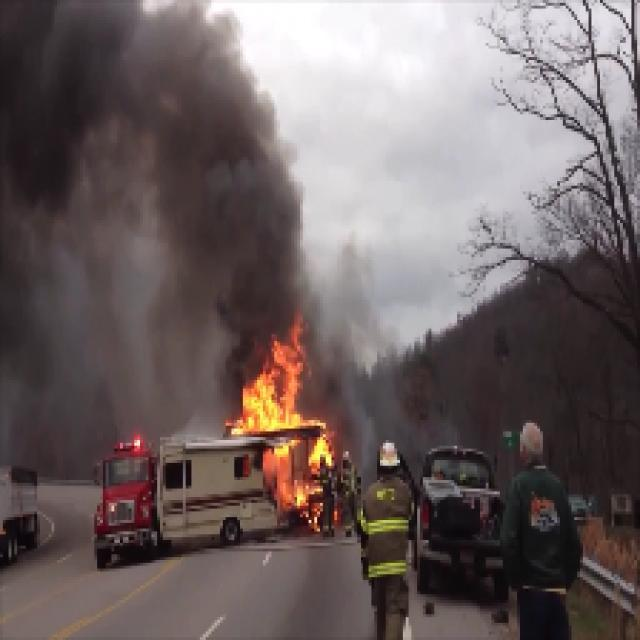Fire: (242, 337, 334, 478)
Smoke: (7, 6, 256, 247), (12, 253, 220, 432)
